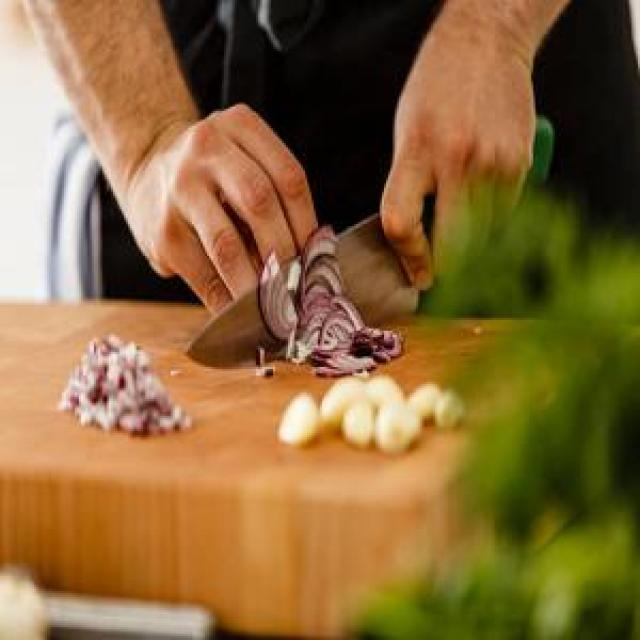knife: (181, 111, 554, 368)
